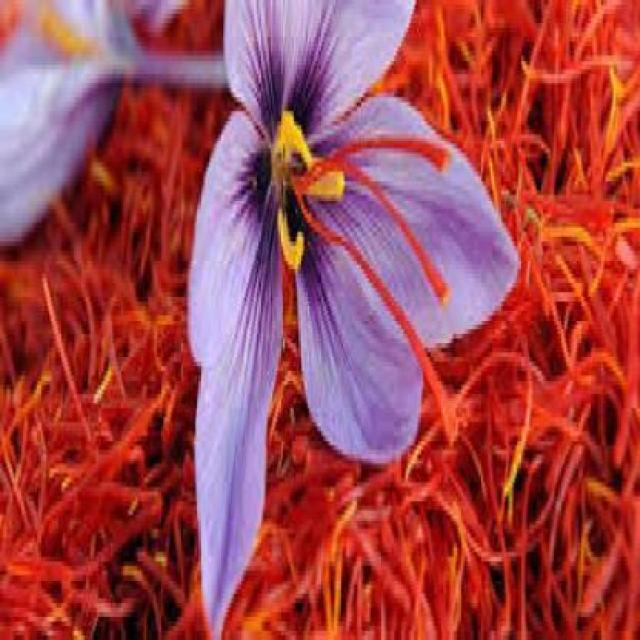saffron open: (189, 0, 518, 639)
